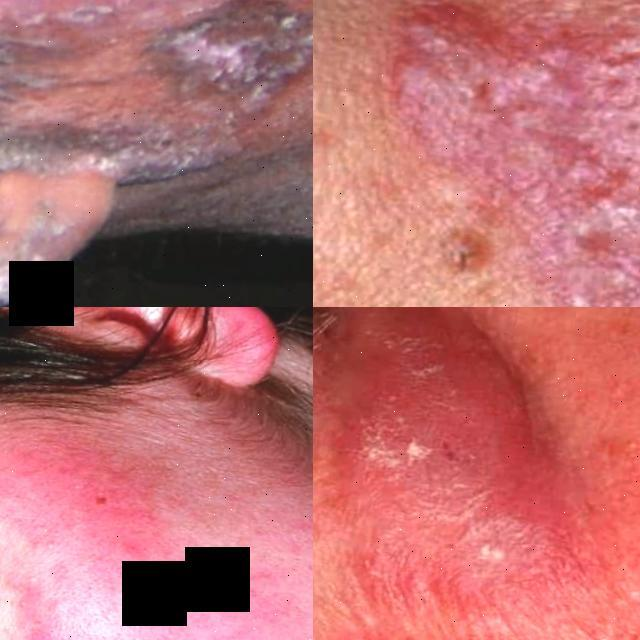lupus-detected: (344, 0, 640, 307), (313, 307, 581, 616), (0, 356, 289, 640), (0, 0, 313, 144), (0, 68, 143, 307), (204, 340, 313, 640)
